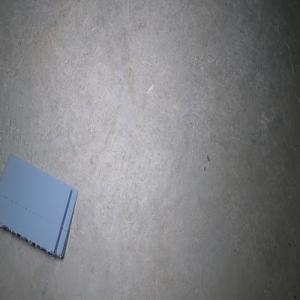PlasticPart: (0, 152, 78, 259)
